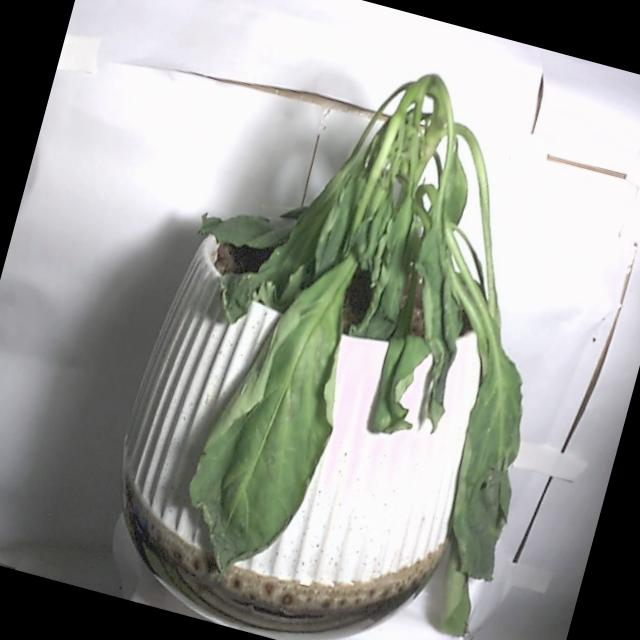Leaf: (172, 276, 366, 578), (411, 333, 552, 640)
